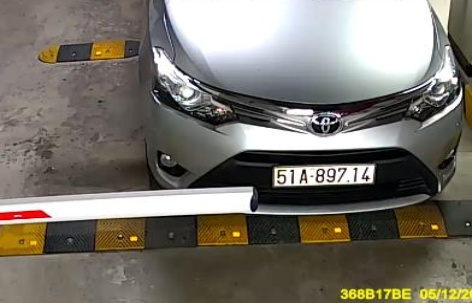plate: (273, 161, 378, 191)
